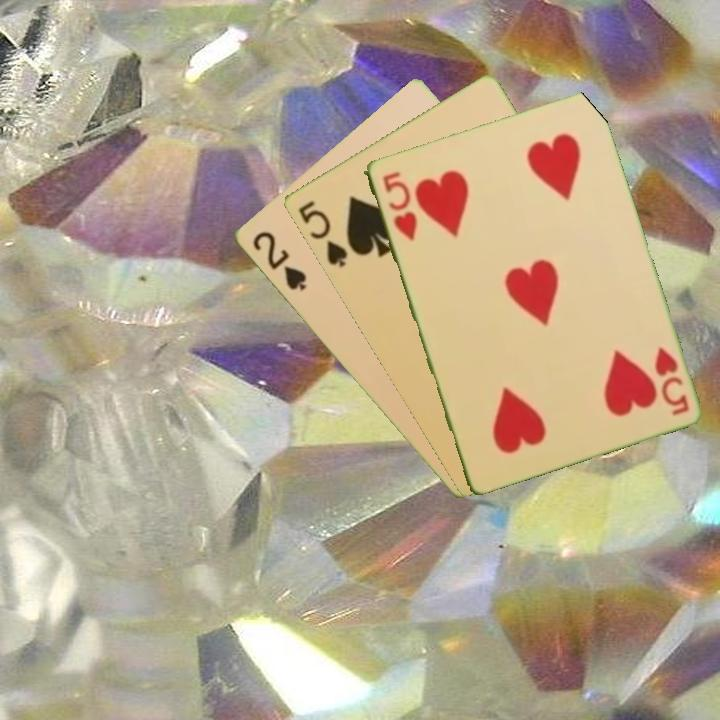2s: (248, 228, 309, 294)
5h: (378, 167, 420, 244), (650, 343, 692, 418)
5s: (294, 196, 350, 270)
